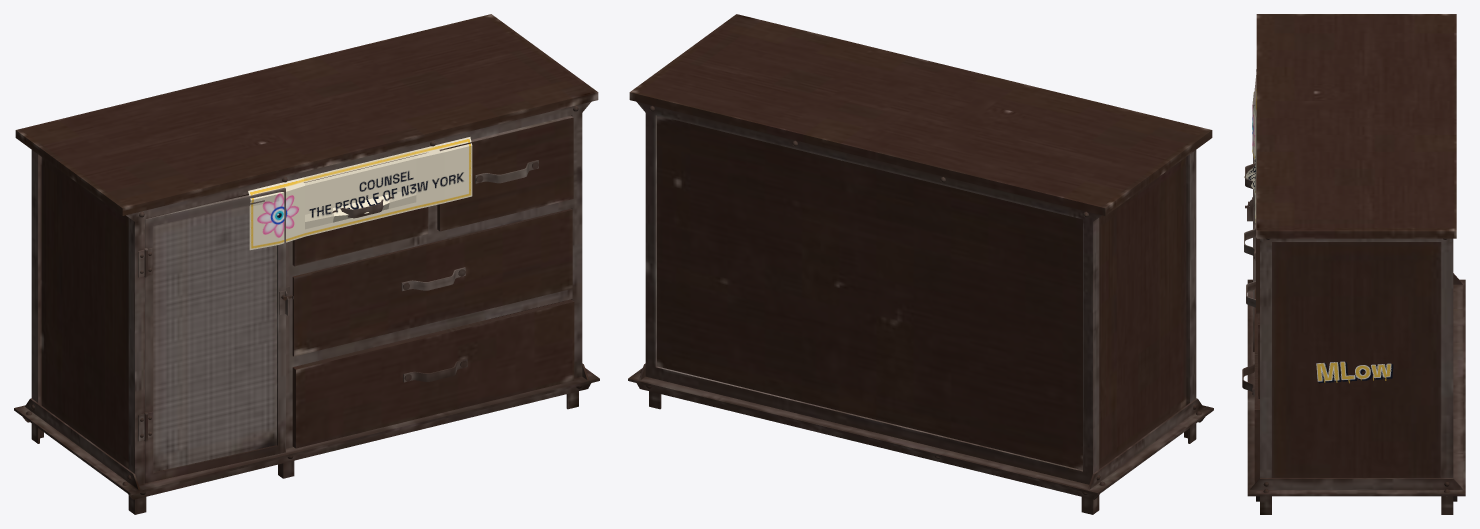
The model's file is nyb_miracle_counsel.glb.
3 renders of one model, left to right at view 1: azimuth 30°, elevation 25°; view 2: azimuth 150°, elevation 25°; view 3: azimuth 270°, elevation 25°, orthographic. The views are drawn at different scales.
Visible parts, largest first — view 1: WoodenTable_03_drawer02, stk_lbl_46e46c5f70.png; view 2: WoodenTable_03_drawer02; view 3: WoodenTable_03_drawer02, stk_tag_mlow_gold.png, stk_lbl_46e46c5f70.png.
Boxes of the visible parts, x1=… form: WoodenTable_03_drawer02: x1=14, y1=14, x2=599, y2=514; stk_lbl_46e46c5f70.png: x1=248, y1=137, x2=472, y2=250; WoodenTable_03_drawer02: x1=628, y1=14, x2=1213, y2=514; WoodenTable_03_drawer02: x1=1242, y1=14, x2=1465, y2=514; stk_tag_mlow_gold.png: x1=1316, y1=361, x2=1393, y2=383; stk_lbl_46e46c5f70.png: x1=1244, y1=89, x2=1256, y2=223.
Bounding box in the file's own units: 1.33 × 0.8301 × 0.5753.
3 materials, 3 textured.
